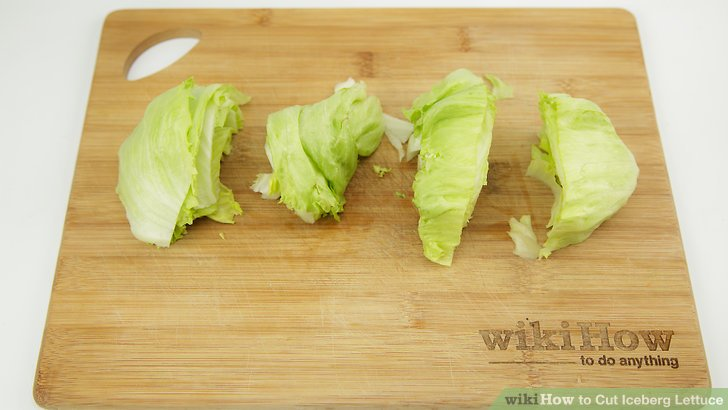chopped lettuce: (534, 98, 631, 227), (128, 83, 221, 216), (410, 88, 485, 245), (264, 94, 366, 207)
